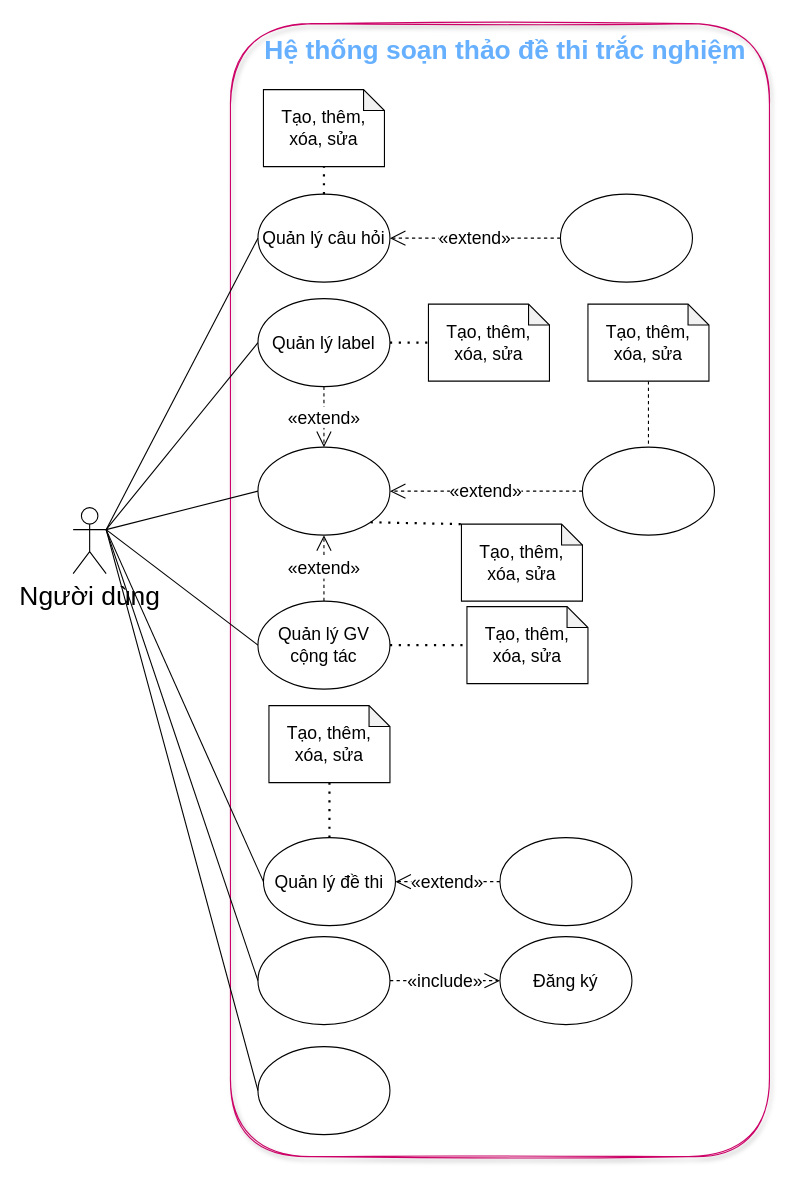
This 795x1183 diagram has some shape labels left out. Each missing label, with the centre of its shape:
Quản lý ngân hàng câu hỏi: the point at 323,490
Quản lý nhóm câu hỏi: the point at 647,490
Tìm câu hỏi: the point at 625,237
Xuất đề thi: the point at 565,881
Đăng nhập: the point at 323,980
Đăng xuất: the point at 323,1090
